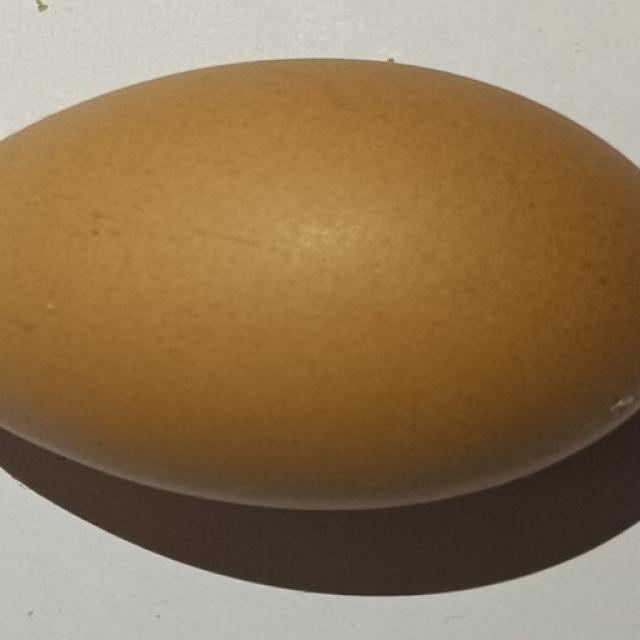fresh: (0, 55, 640, 510)
